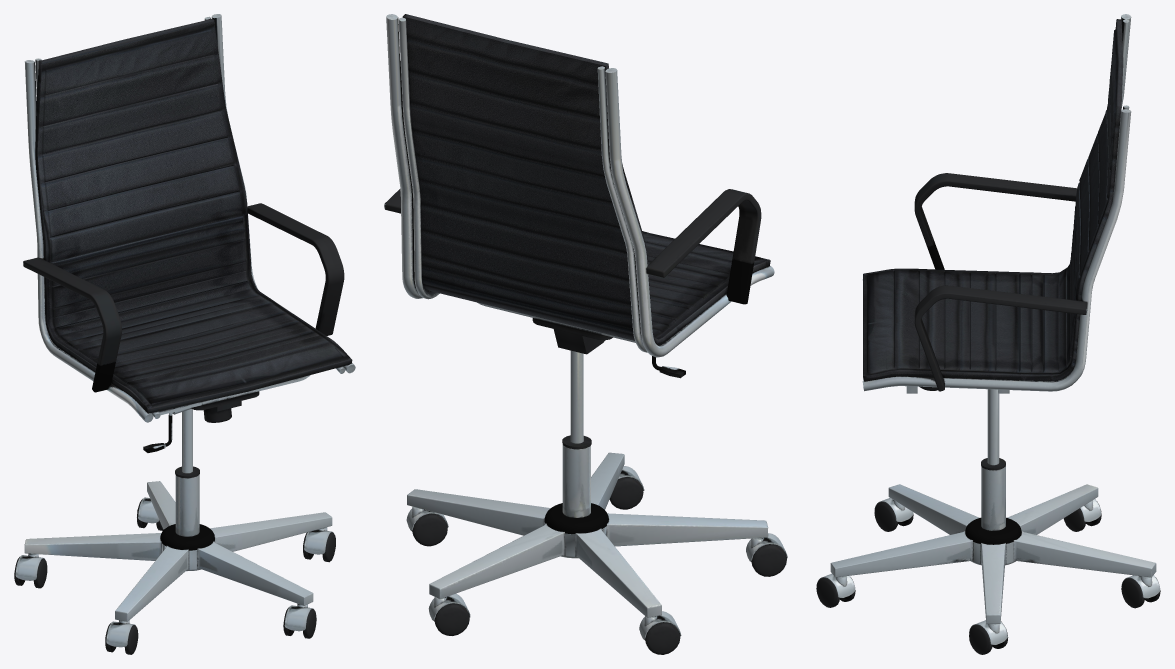
File: luccra_hoch_black_chrome_plated.glb
3 views of the same model, side by side, from view 1: azimuth 30°, elevation 25°; view 2: azimuth 150°, elevation 25°; view 3: azimuth 270°, elevation 25° (orthographic). The views are drawn at different scales.
Visible parts, largest first — view 1: luccra_hoch-black; view 2: luccra_hoch-black; view 3: luccra_hoch-black.
Boxes of the visible parts, <box> form: luccra_hoch-black: <box>14,14,355,654</box>; luccra_hoch-black: <box>384,14,787,654</box>; luccra_hoch-black: <box>816,14,1160,654</box>.
Size of the model in its own units: 0.6002 by 1.05 by 0.6247.
Materials: 1 (1 with a texture image).
